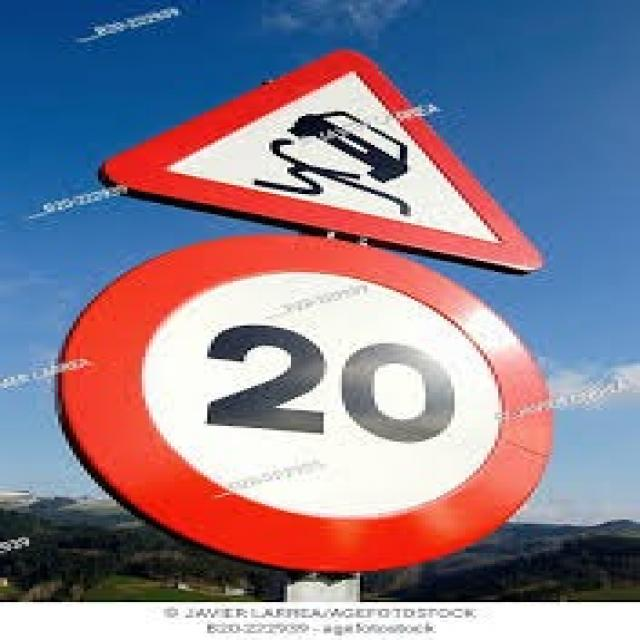speed_limit_20: (43, 231, 595, 585)
